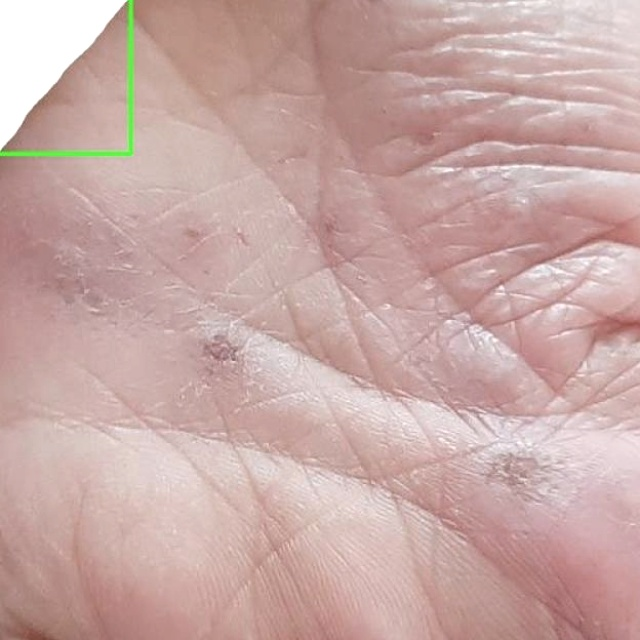Contact Dermatitis: (0, 0, 131, 153)
